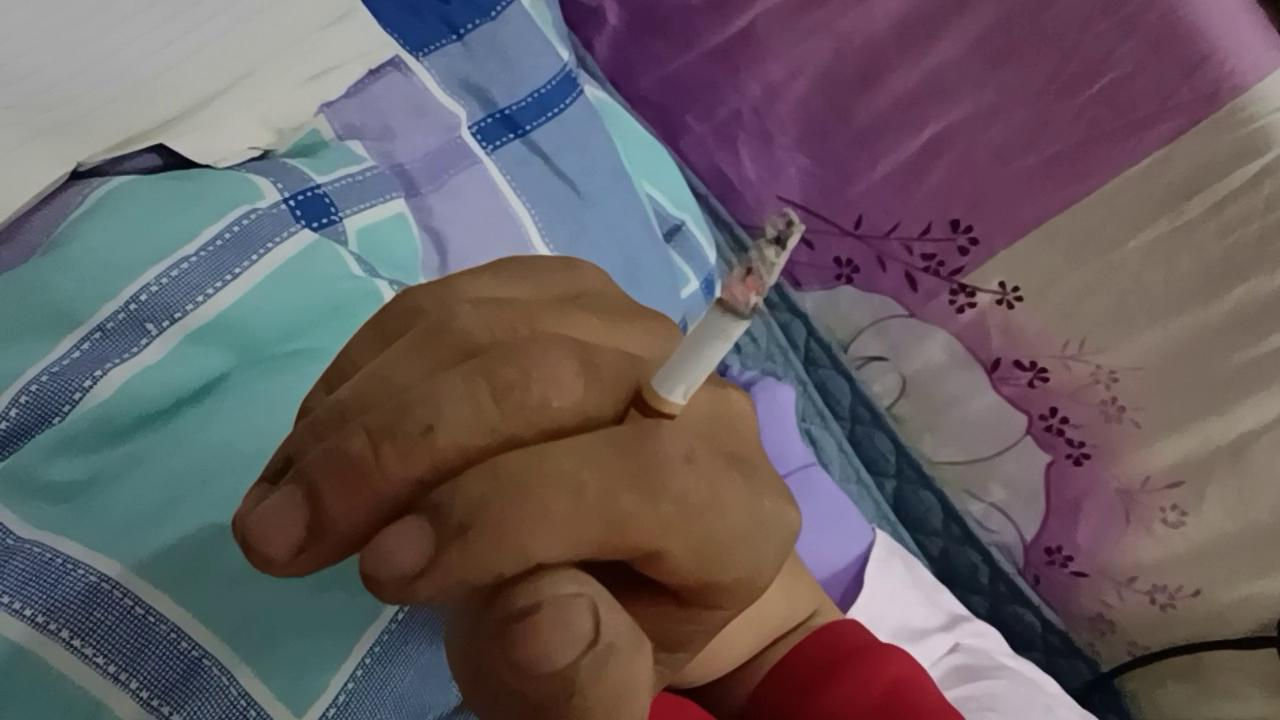smoke: (606, 204, 807, 460)
